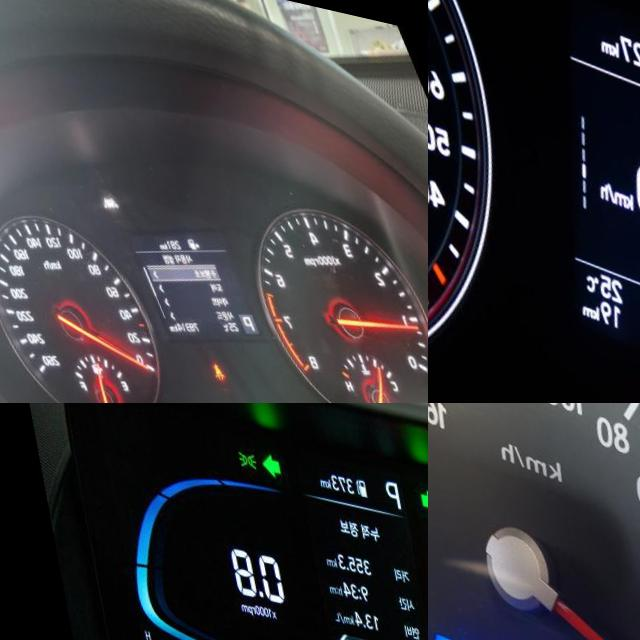LaneCenteringOff: (92, 182, 111, 201)
SideLamp: (229, 440, 250, 461)
